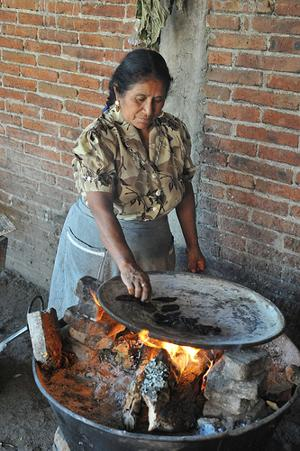person: (47, 51, 207, 308)
